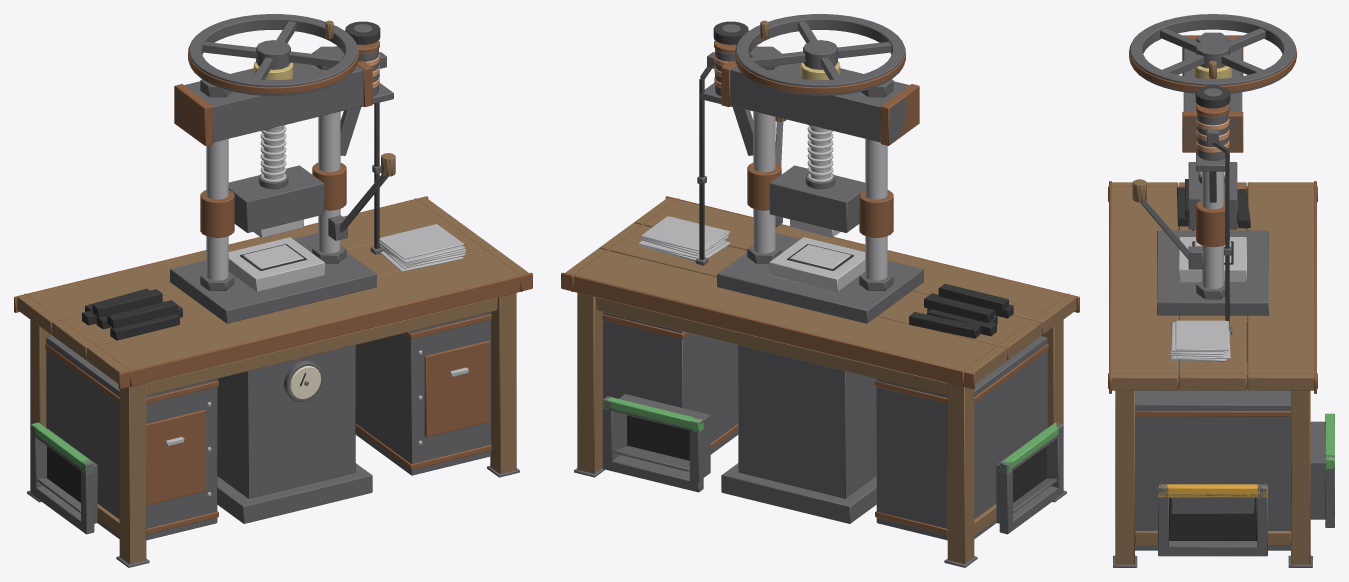
File: fePress.fbx
3 renders of one model, left to right at view 1: azimuth 30°, elevation 25°; view 2: azimuth 150°, elevation 25°; view 3: azimuth 270°, elevation 25°, orthographic.
Visible parts, largest first — view 1: fePress_Base, fePress_Screw, fePress_Ram, fePress_DriveWheel; view 2: fePress_Base, fePress_Screw, fePress_Ram, fePress_DriveWheel; view 3: fePress_Base, fePress_Screw, fePress_Ram, fePress_DriveWheel.
Part boxes in pixels (bbox=[...]): fePress_Base: bbox=[14, 40, 532, 567]; fePress_Screw: bbox=[188, 14, 358, 181]; fePress_Ram: bbox=[200, 163, 346, 237]; fePress_DriveWheel: bbox=[345, 21, 380, 44]; fePress_Base: bbox=[561, 40, 1079, 567]; fePress_Screw: bbox=[735, 14, 905, 181]; fePress_Ram: bbox=[747, 163, 893, 237]; fePress_DriveWheel: bbox=[713, 21, 748, 44]; fePress_Base: bbox=[1108, 32, 1334, 567]; fePress_Screw: bbox=[1129, 14, 1296, 175]; fePress_Ram: bbox=[1188, 162, 1237, 247]; fePress_DriveWheel: bbox=[1195, 85, 1230, 108].
Size of the model in its own units: 2 by 1.99 by 0.93.
